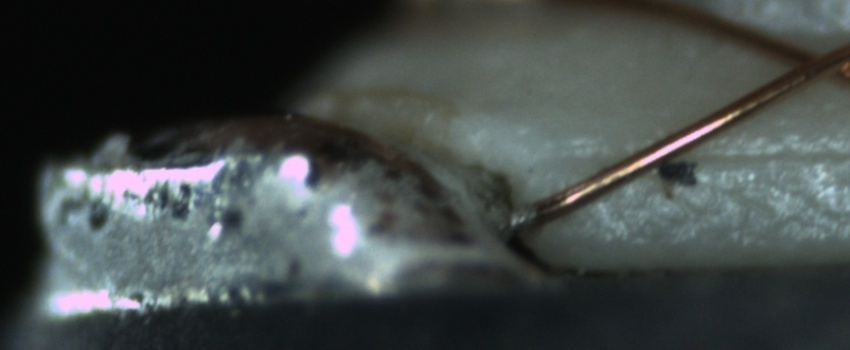CL: (772, 33, 849, 89)
DL: (559, 127, 849, 187)
